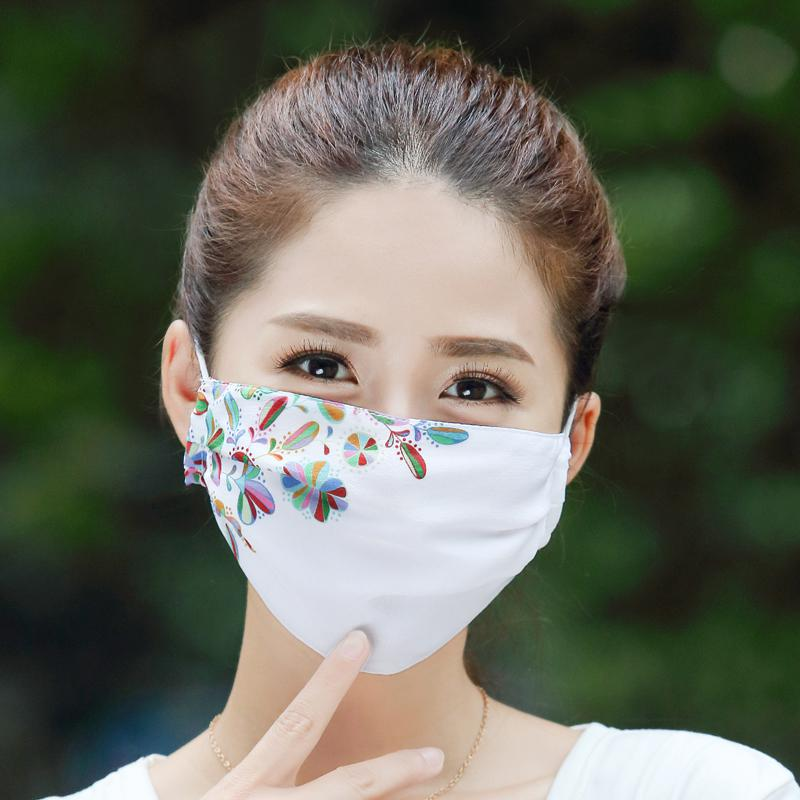OK: (207, 291, 565, 649)
